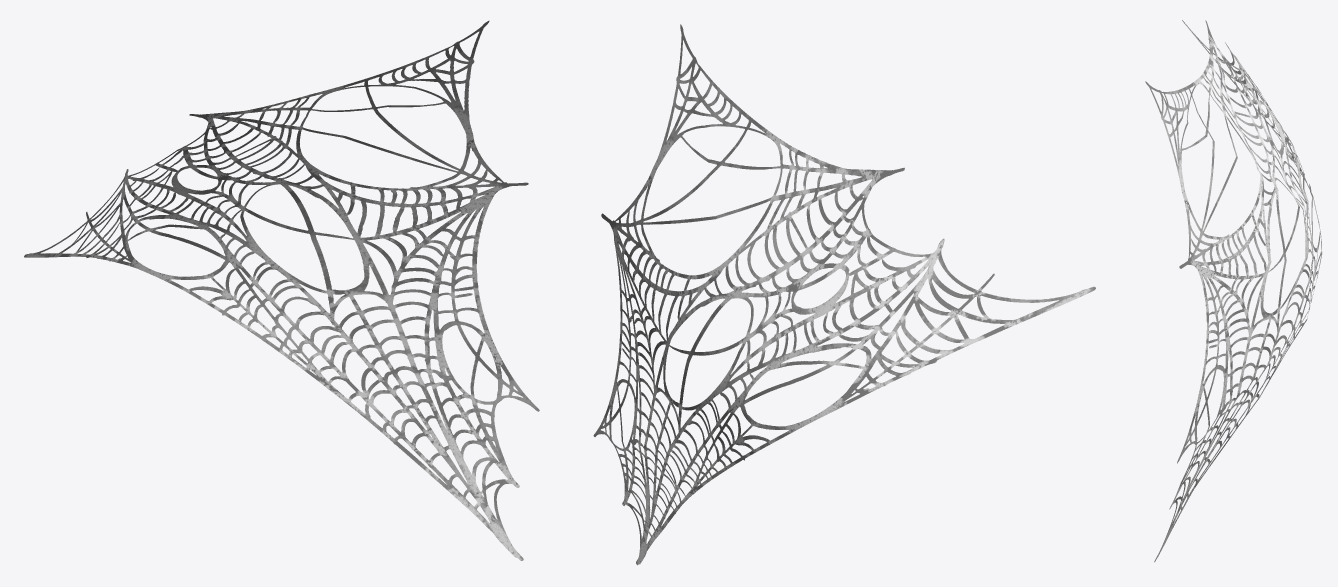
Rendered from mangnhen1 1.glb.
3 views of the same model, side by side, from view 1: azimuth 30°, elevation 25°; view 2: azimuth 150°, elevation 25°; view 3: azimuth 270°, elevation 25° (orthographic). The views are drawn at different scales.
Parts seen in each view (by area): view 1: Object_3; view 2: Object_3; view 3: Object_3.
Part boxes in pixels (<box>): Object_3: <box>24,20,539,560</box>; Object_3: <box>593,24,1095,565</box>; Object_3: <box>1145,20,1322,562</box>.
Bounding box in the file's own units: 41.6 × 42.19 × 14.54.
1 material, 1 textured.
